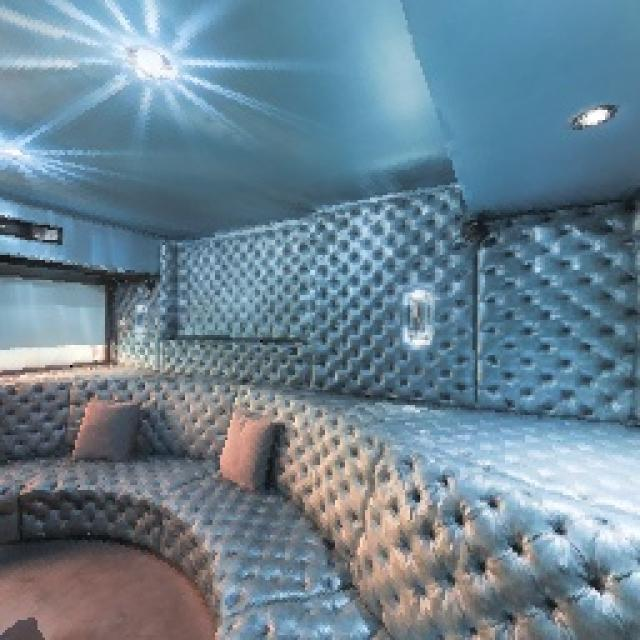sofa: (0, 320, 518, 639)
